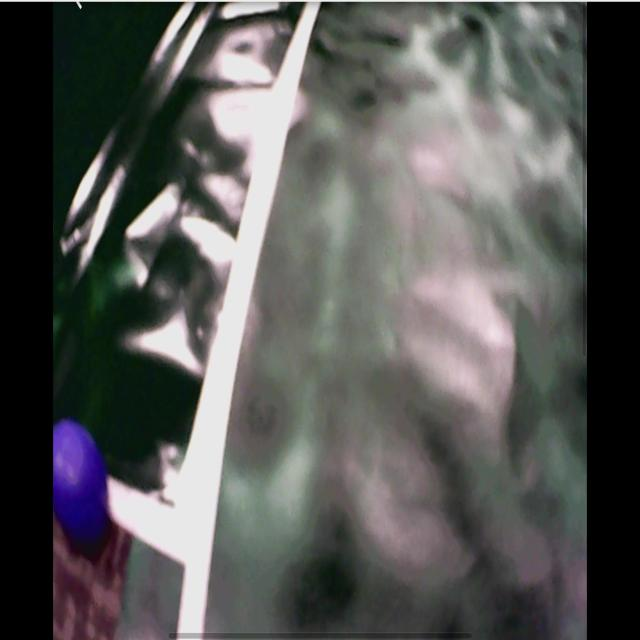ball: (56, 421, 109, 543)
